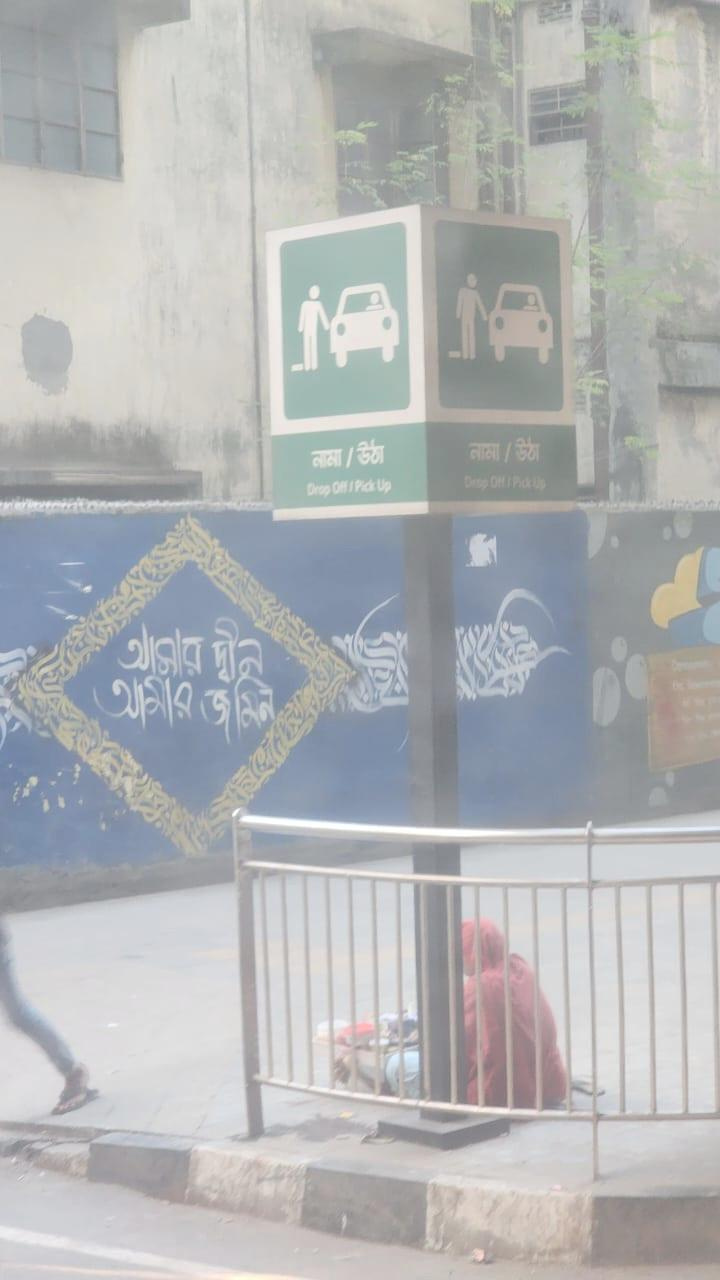Metro Dorp Up Pick up: (260, 208, 584, 514)
